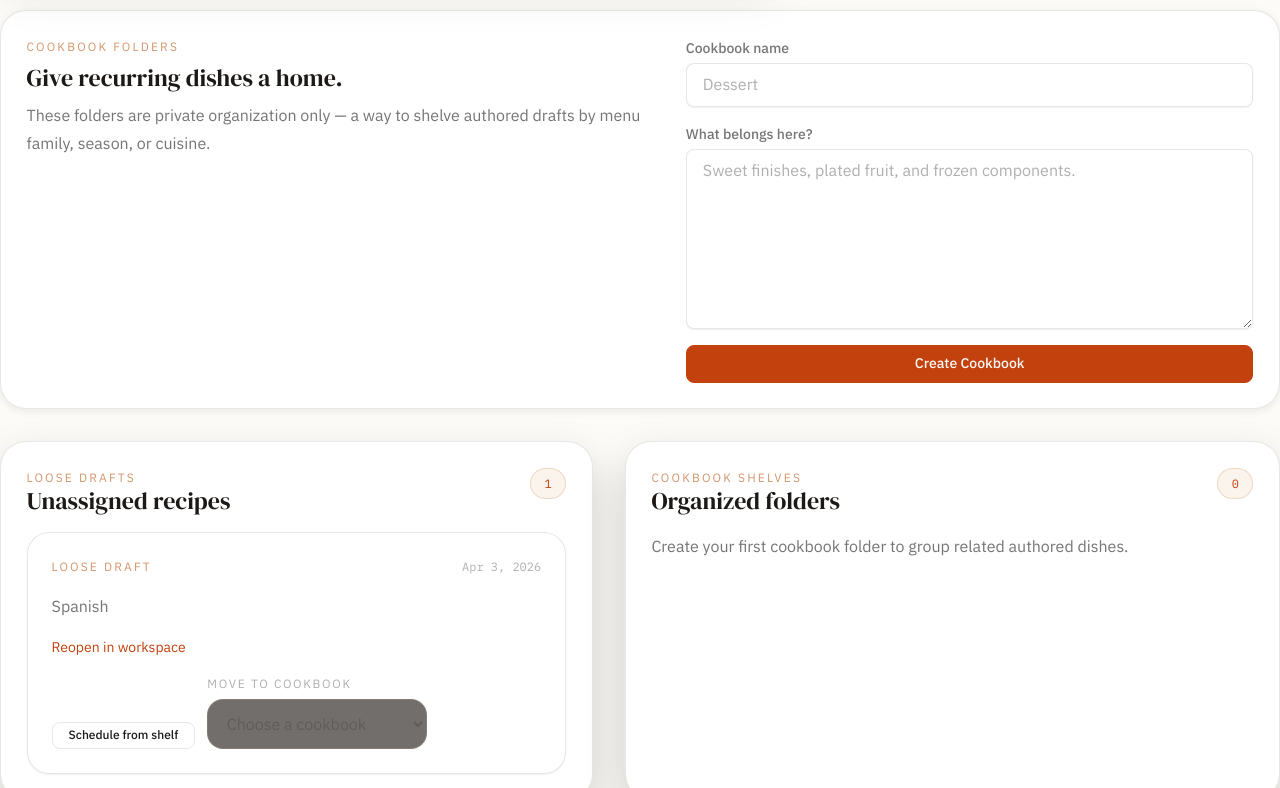
RecipeLibraryPage › does not send a schedule request when the selected row is missing recipe details
(page scrolled)
Click the button "Schedule from shelf".
click(123, 735)  # box [52,722,195,749]
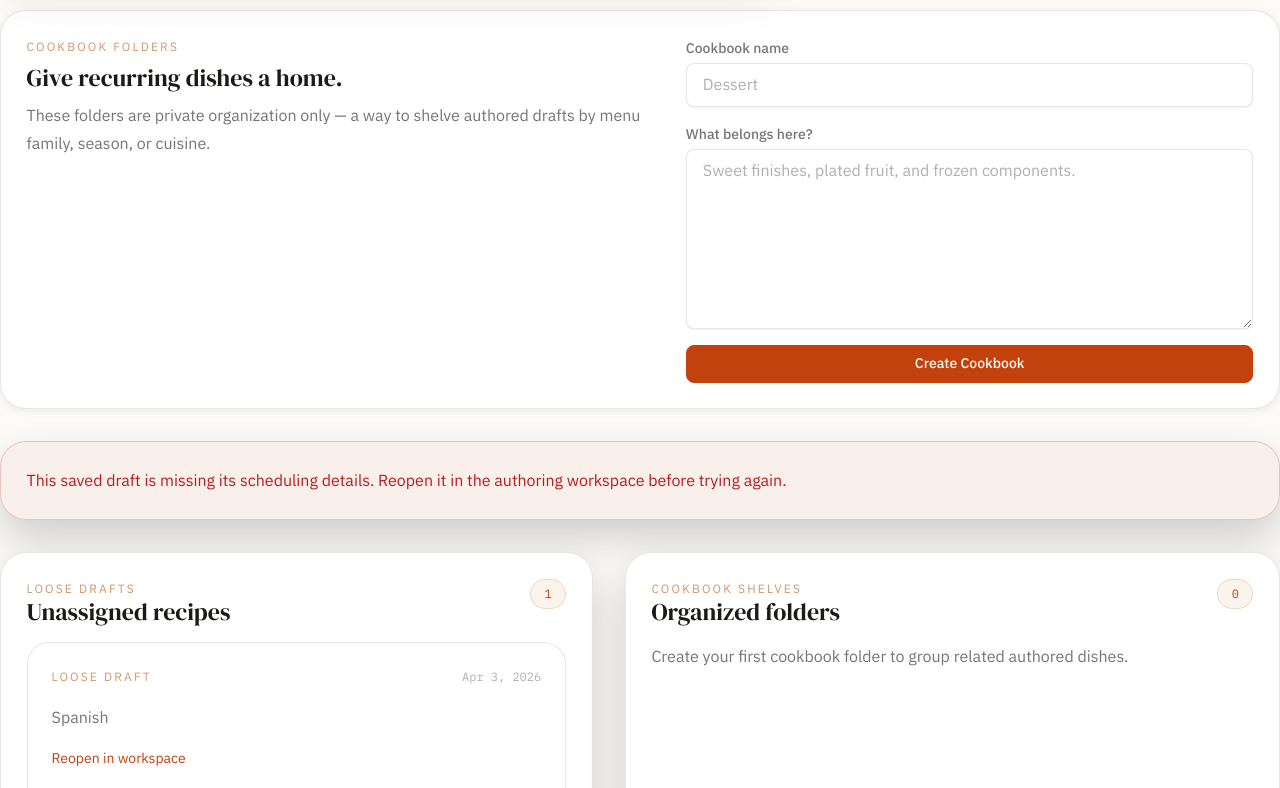
expect the message shows "This saved draft is missing its scheduling details. Reopen it in the authoring workspace before trying again.": met, box [27,470,787,490]
